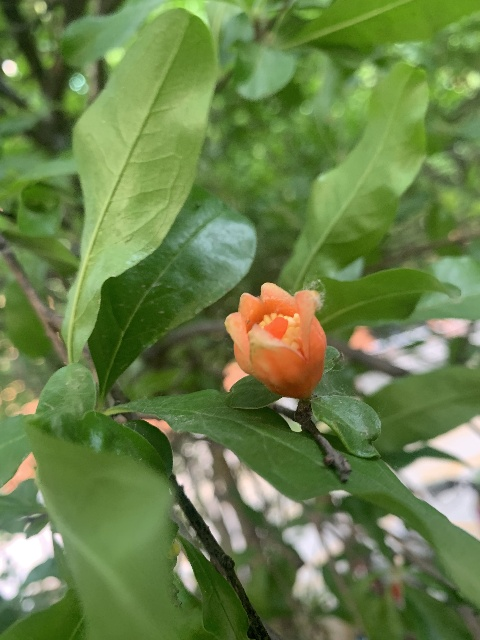flower: (223, 281, 326, 400)
